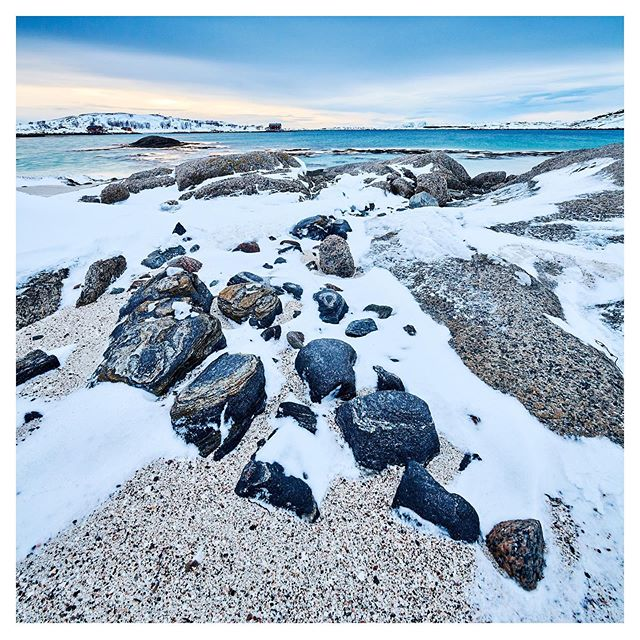rocks: (27, 147, 614, 622)
sky: (13, 9, 623, 121)
